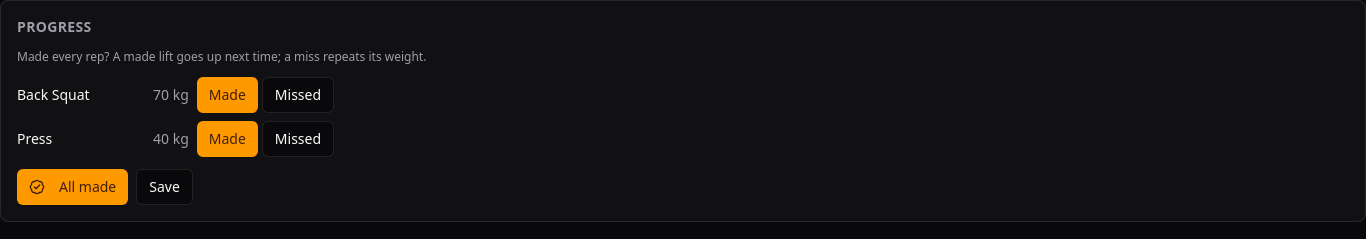
it: ModuleProgress › asks each loaded lift made or missed, and sends only what went otherwise
Click the button "Missed" in the row of "70" at (298, 95), box left=262, top=77, right=334, bottom=113
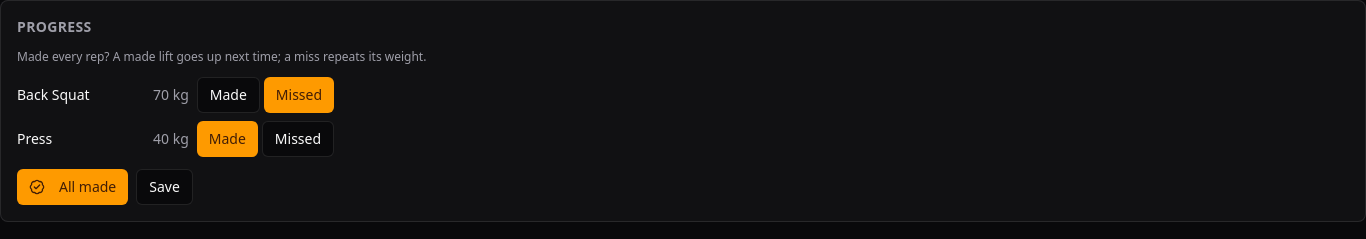
Click the button "Save" at (165, 187), box left=136, top=169, right=193, bottom=205
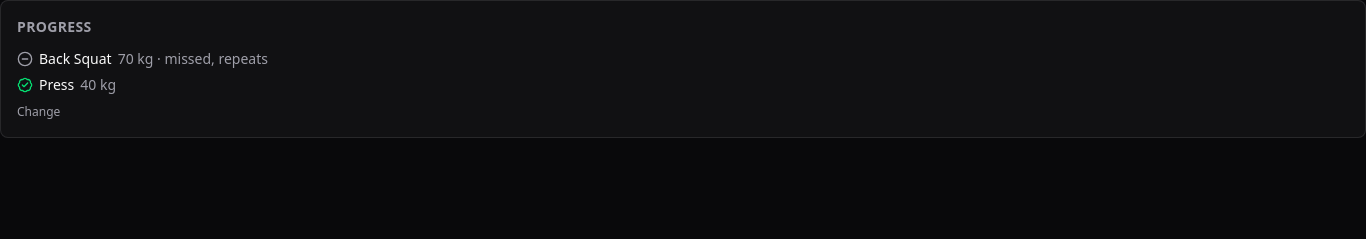
Expected: the text "70 kg · missed, repeats" is shown, left=118, top=49, right=268, bottom=69
